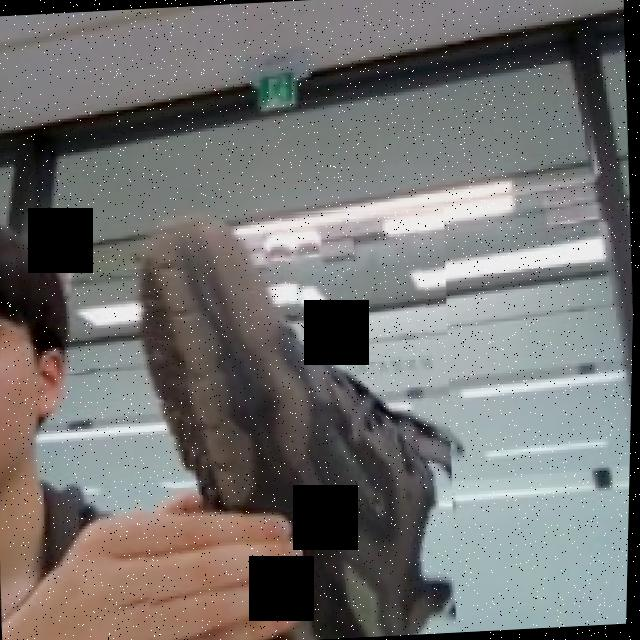shoe: (105, 203, 466, 640)
